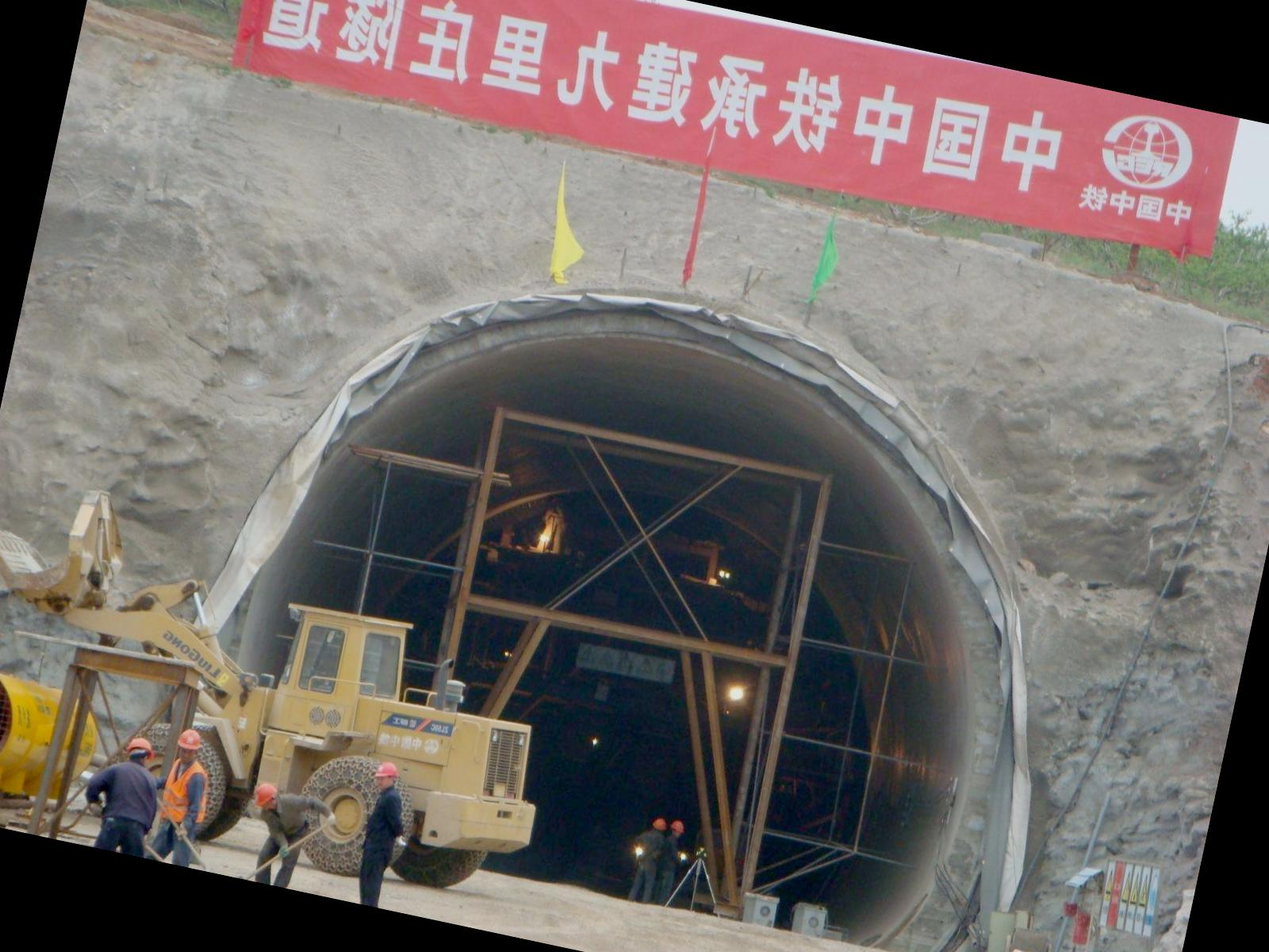no_vest: (347, 782, 412, 878)
person: (333, 757, 424, 912), (138, 724, 230, 870), (229, 773, 330, 893), (76, 727, 167, 858)
